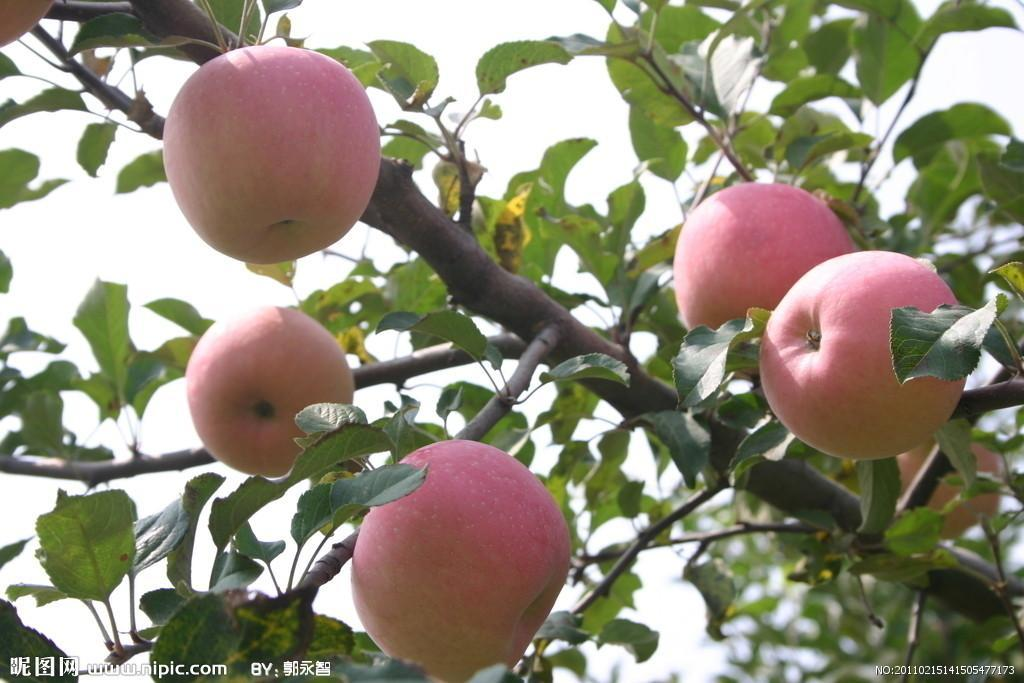apple: (348, 435, 571, 675), (160, 48, 382, 265), (760, 249, 965, 461), (179, 308, 350, 480), (668, 180, 852, 328)
